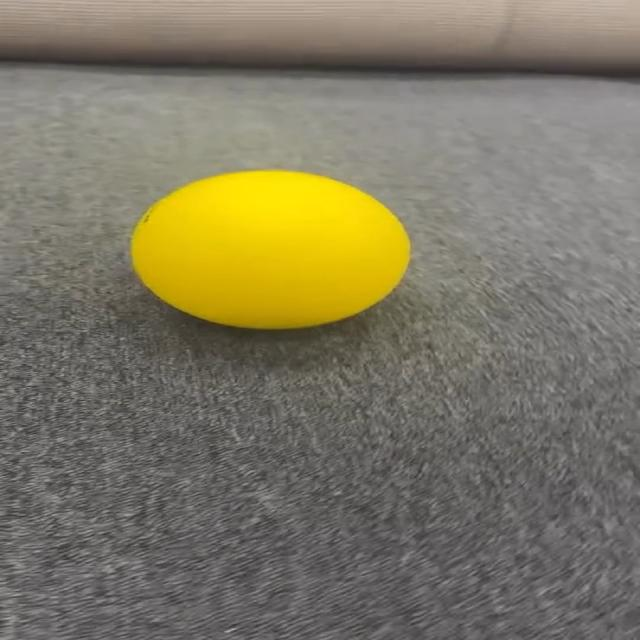Fuels: (133, 171, 407, 327)
